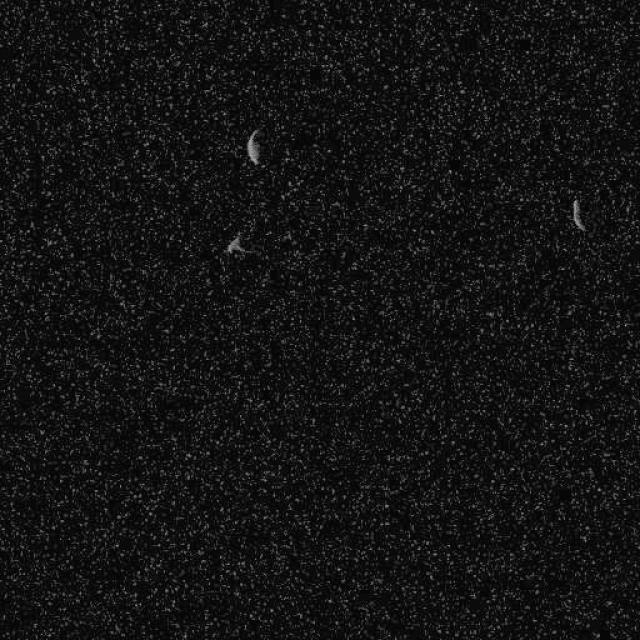D2: (224, 232, 252, 258), (245, 126, 263, 165), (570, 198, 585, 232)
